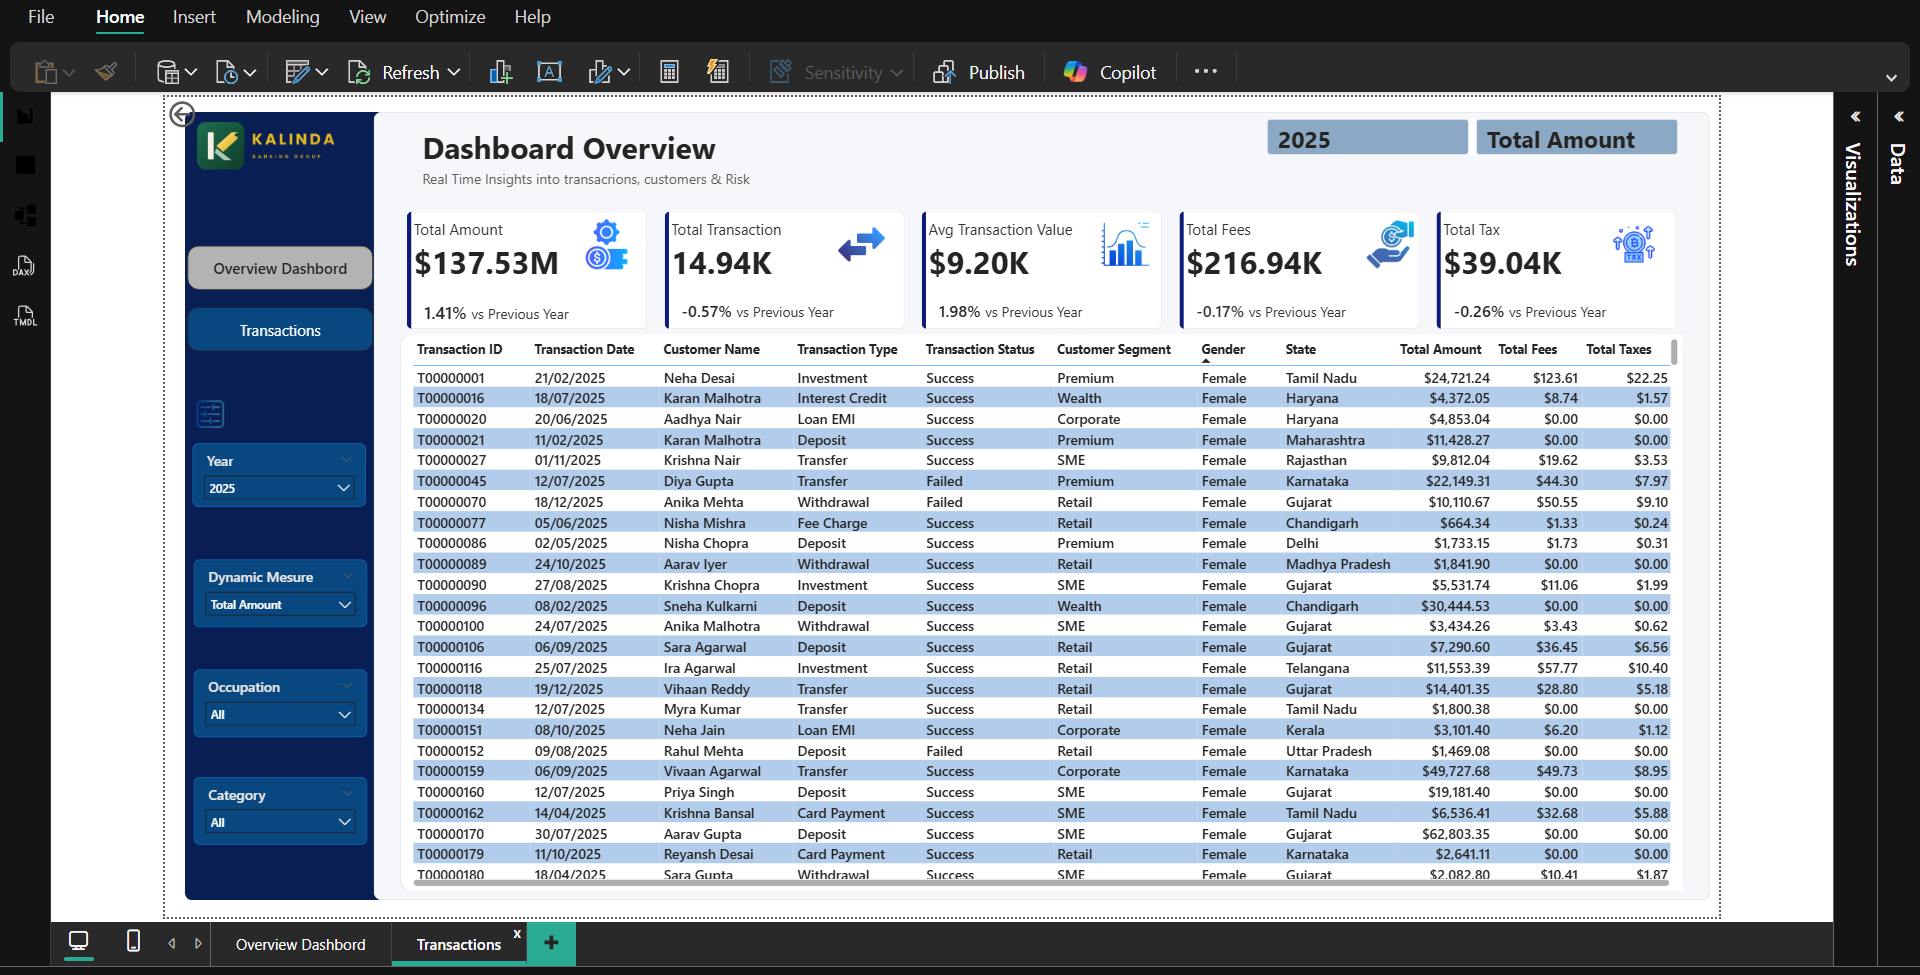

The dashboard page shown, as its layout file describes it:
{"tool":"powerbi","page":{"name":"Transactions","canvas":[1800,950],"ordinal":1},"visuals":[{"type":"shape","box":[22.9,18,248.5,912.4],"z":0},{"type":"shape","box":[242,18,1546.9,912.4],"z":1000},{"type":"image","box":[22.3,17.5,210.3,78.1],"z":2000},{"type":"cardVisual","fields":{"Data":["finance_transactions.Dashbord Title"]},"box":[281.3,18,431.7,104.7],"z":3000},{"type":"cardVisual","fields":{"Data":["finance_transactions.Total Amount","finance_transactions.Total Transaction","finance_transactions.Avg Transaction Value","finance_transactions.Total Fees","finance_transactions.Total Tax"]},"box":[271.4,124.3,1486.4,152.1],"z":4000},{"type":"image","box":[477.5,142.3,67,57.2],"z":5000},{"type":"image","box":[773.4,142.3,67,57.2],"z":6000},{"type":"image","box":[1385,142.3,67,57.2],"z":7000},{"type":"image","box":[1077.6,142.3,67,57.2],"z":8000},{"type":"image","box":[1667.9,142.3,67,57.2],"z":9000},{"type":"shape","box":[271.4,274.7,1486.4,644.3],"z":10000},{"type":"cardVisual","fields":{"Data":["finance_transactions.Selected Year","finance_transactions.Selected Dynamic Mesure"]},"box":[1270.5,19.6,487.3,52.3],"z":11000},{"type":"tableEx","fields":{"Values":["finance_transactions.transaction_id","finance_transactions.transaction_date","customers.customer_name","finance_transactions.transaction_type","finance_transactions.transaction_status","customers.customer_segment","customers.gender","customers.state","finance_transactions.Total Amount","finance_transactions.Total Fees","finance_transactions.Total Tax"]},"box":[281.3,274.7,1476.6,644.3],"z":12000},{"type":"actionButton","box":[0,0,100,40],"z":13000},{"type":"pageNavigator","box":[26.2,171.7,215.8,122.6],"z":14000},{"type":"slicer","fields":{"Values":["calender_table.year"]},"box":[31.8,400.9,201.2,73.8],"z":15000},{"type":"slicer","fields":{"Values":["Dynamic Mesure.Dynamic Mesure"]},"box":[33.3,535.5,201.2,78.2],"z":16000},{"type":"slicer","fields":{"Values":["customers.occupation"]},"box":[33.5,662.7,200.7,78.1],"z":17000},{"type":"slicer","fields":{"Values":["finance_transactions.merchant_category"]},"box":[33.5,786.9,200.7,78.1],"z":18000},{"type":"image","box":[31.8,334.3,57.9,52.1],"z":19000}]}

Visuals, with their boxes on the page's 1800x950 design canvas (x1, y1, x2, y2). These are canvas units, not pixel positions in the 1920x975 screenshot, which may show the page scaled, cropped or inside an application window:
shape: x1=23 y1=18 x2=271 y2=930
shape: x1=242 y1=18 x2=1789 y2=930
image: x1=22 y1=18 x2=233 y2=96
cardVisual - finance_transactions.Dashbord Title: x1=281 y1=18 x2=713 y2=123
cardVisual - finance_transactions.Total Amount x finance_transactions.Total Transaction: x1=271 y1=124 x2=1758 y2=276
image: x1=478 y1=142 x2=544 y2=200
image: x1=773 y1=142 x2=840 y2=200
image: x1=1385 y1=142 x2=1452 y2=200
image: x1=1078 y1=142 x2=1145 y2=200
image: x1=1668 y1=142 x2=1735 y2=200
shape: x1=271 y1=275 x2=1758 y2=919
cardVisual - finance_transactions.Selected Year x finance_transactions.Selected Dynamic Mesure: x1=1270 y1=20 x2=1758 y2=72
tableEx - finance_transactions.transaction_id x finance_transactions.transaction_date: x1=281 y1=275 x2=1758 y2=919
actionButton: x1=0 y1=0 x2=100 y2=40
pageNavigator: x1=26 y1=172 x2=242 y2=294
slicer - calender_table.year: x1=32 y1=401 x2=233 y2=475
slicer - Dynamic Mesure.Dynamic Mesure: x1=33 y1=536 x2=234 y2=614
slicer - customers.occupation: x1=34 y1=663 x2=234 y2=741
slicer - finance_transactions.merchant_category: x1=34 y1=787 x2=234 y2=865
image: x1=32 y1=334 x2=90 y2=386
